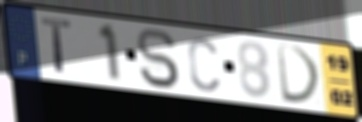1: (96, 22, 127, 84)
8: (235, 39, 274, 103)
C: (185, 35, 221, 94)
D: (274, 42, 325, 107)
S: (135, 27, 182, 91)
T: (39, 15, 75, 77)
